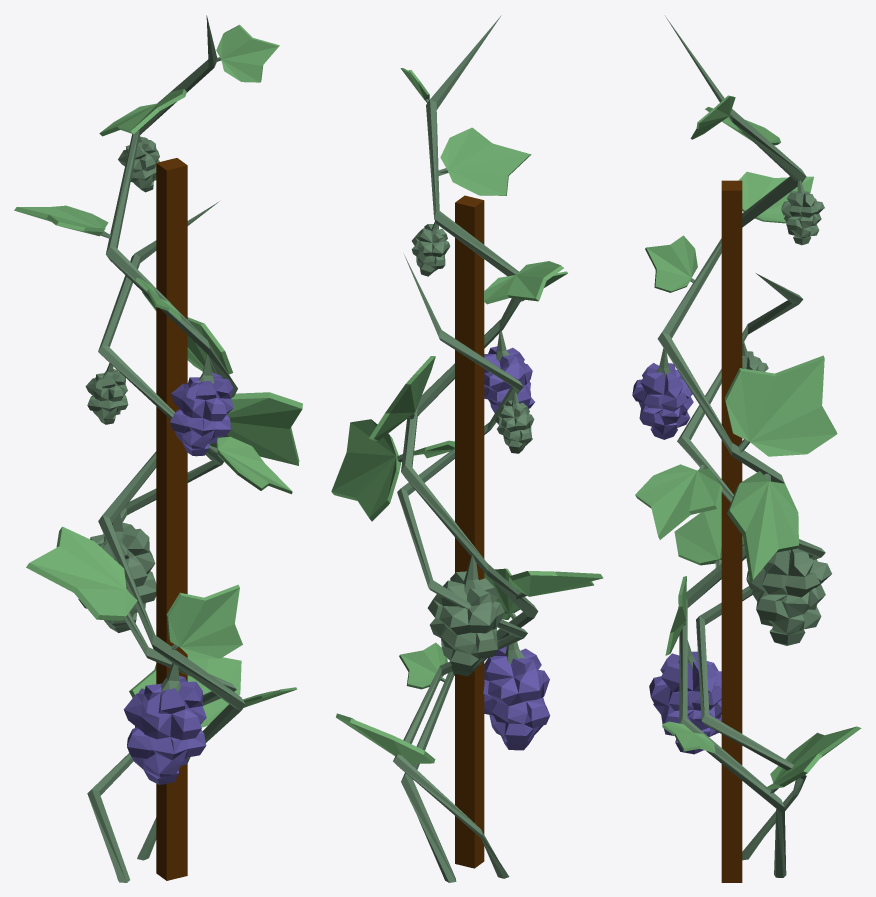
Rendered from grap2.glb.
3 views of the same model, side by side, from view 1: azimuth 30°, elevation 25°; view 2: azimuth 150°, elevation 25°; view 3: azimuth 270°, elevation 25° (orthographic). The views are drawn at different scales.
Visible parts, largest first — view 1: grap_1; view 2: grap_1; view 3: grap_1.
Boxes of the visible parts, <box> form: grap_1: <box>14,15,302,882</box>; grap_1: <box>331,15,603,882</box>; grap_1: <box>632,16,861,882</box>.
Bounding box in the file's own units: 0.7283 × 2.18 × 0.5244.
Materials: 1 (1 with a texture image).
